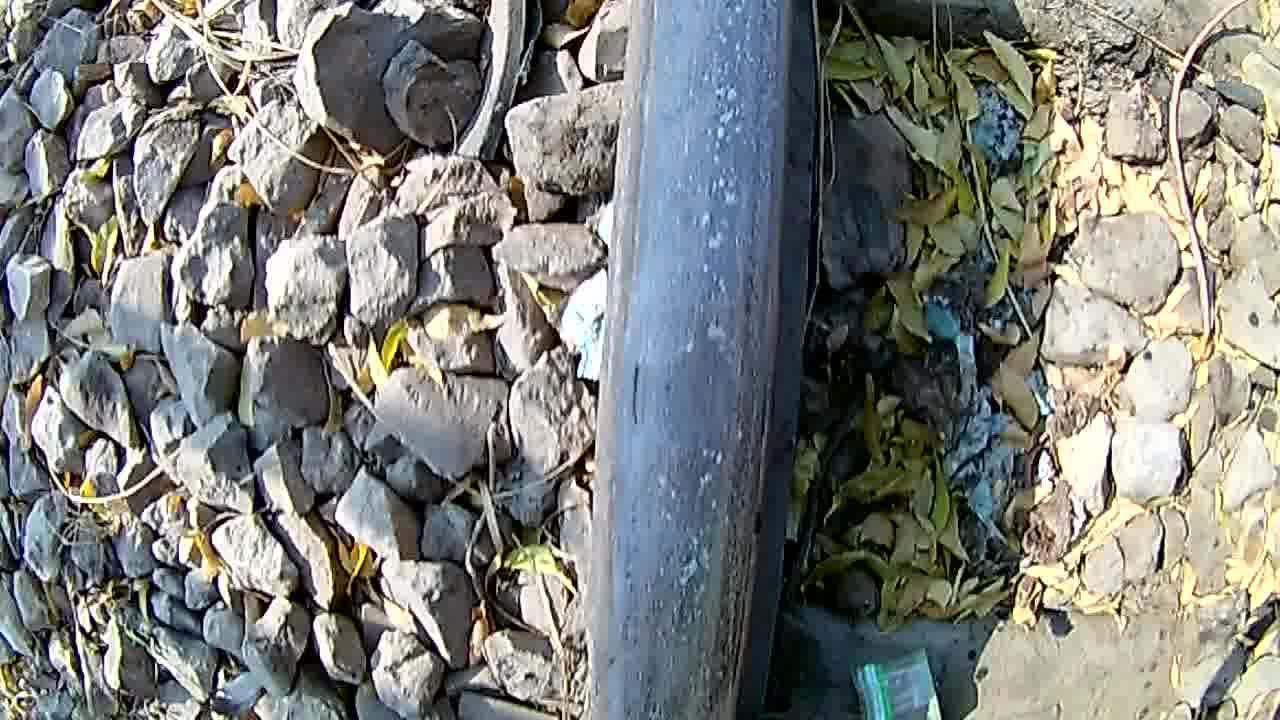bolt_missing: (612, 242, 788, 558)
